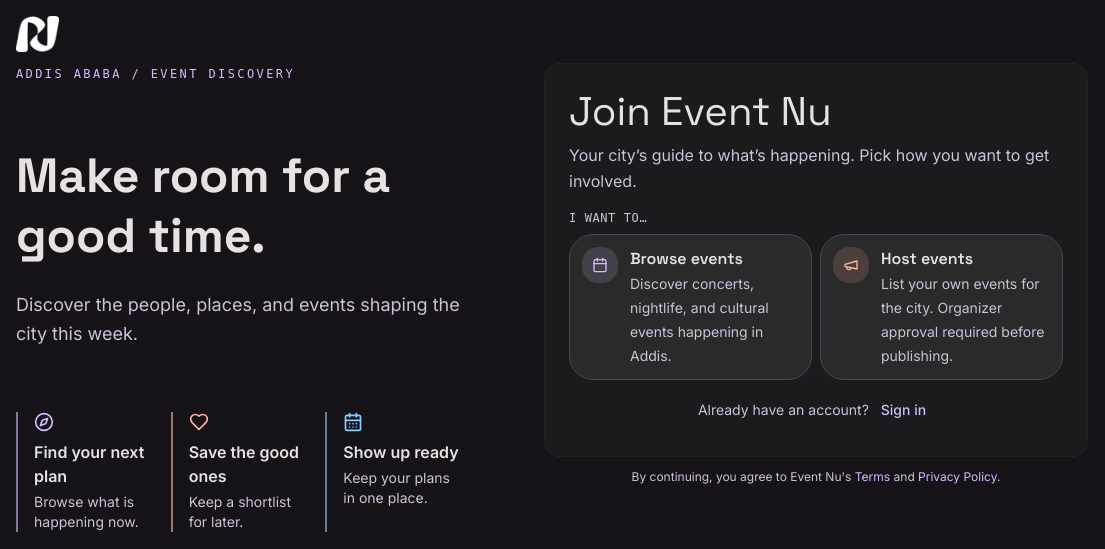
AuthPage — Functional Tests › view transitions › navigates to signin when "Sign in" button is clicked
This screenshot has width=1105, height=549.
Click the button "Sign in".
click(904, 410)  # box [873,388,934,432]
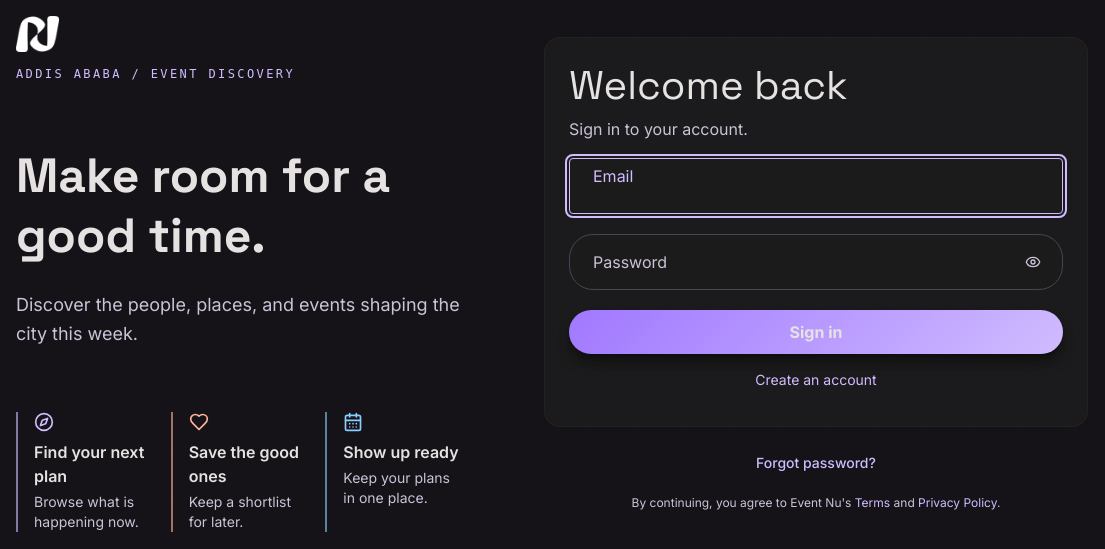
Check: the heading "Welcome back" is shown, box [569,60,848,111]
Check: the field labelled "Email" is shown, box [569,158,1063,214]
Check: the password field labelled "Password" is shown, box [569,234,1063,290]
